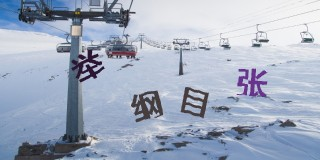举: (71, 48, 104, 83)
张: (236, 67, 269, 97)
目: (179, 86, 210, 118)
纲: (129, 89, 164, 122)
